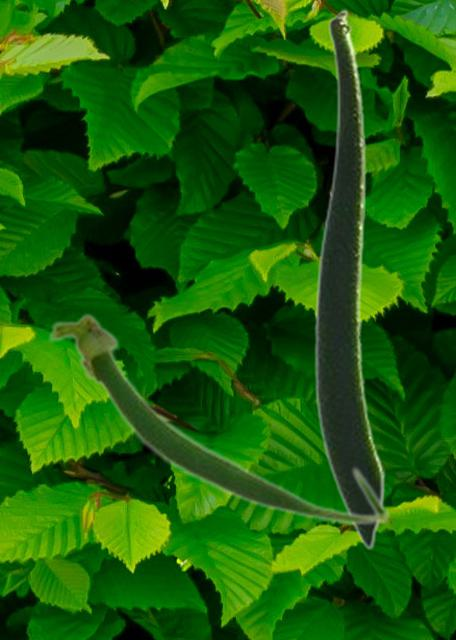french_bean: (46, 310, 390, 526), (313, 8, 385, 550)
